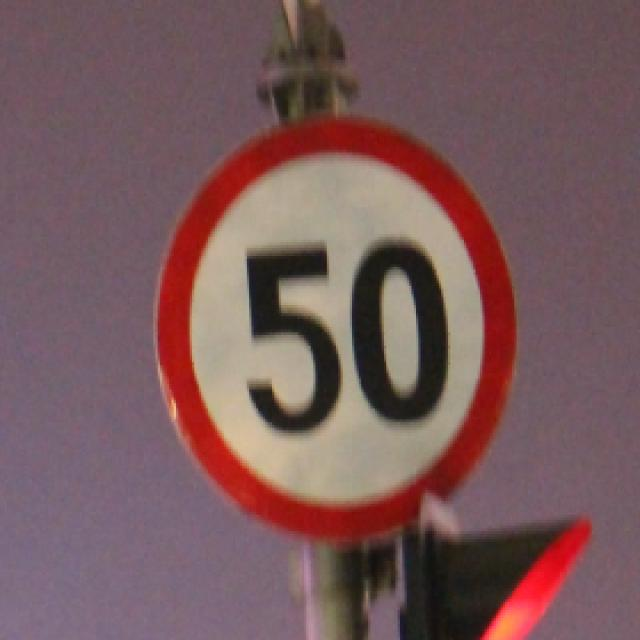Limite-50: (151, 112, 519, 550)
